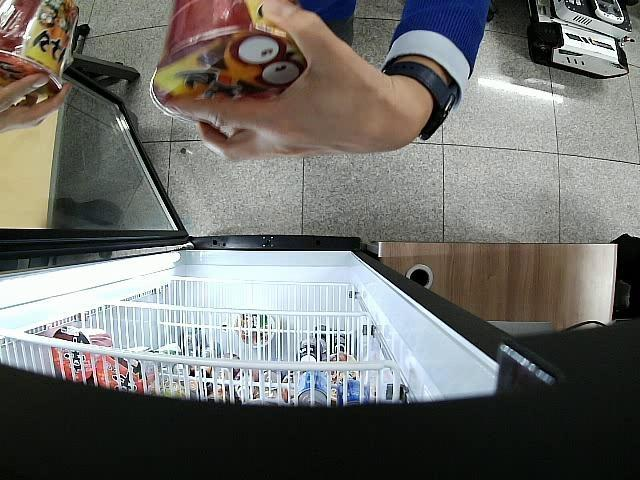05_nuguri_L: (151, 0, 306, 124), (0, 0, 80, 109)
